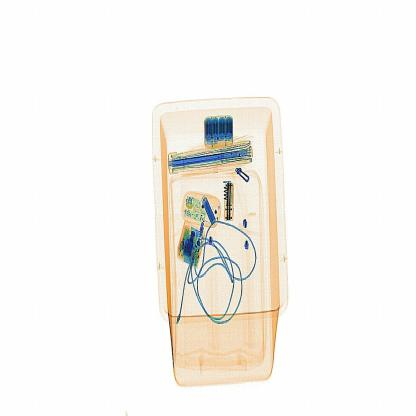scissors: (222, 178, 237, 226)
